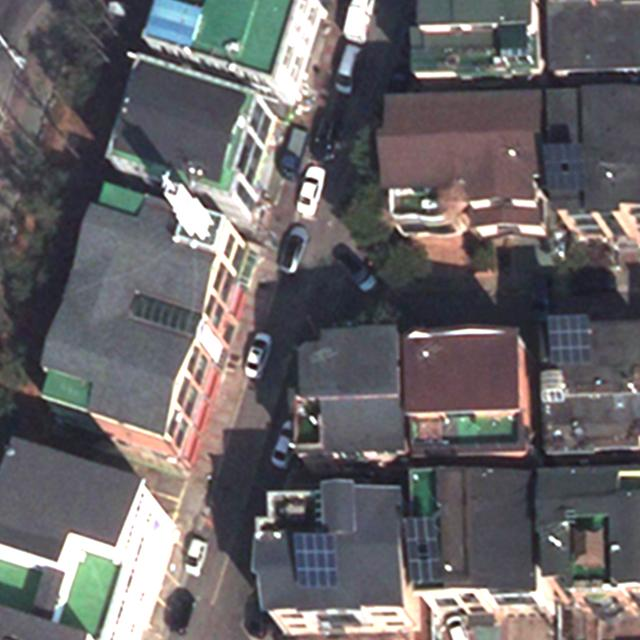panel: (399, 516, 442, 589), (537, 141, 589, 198), (292, 530, 343, 587), (545, 312, 592, 367)
